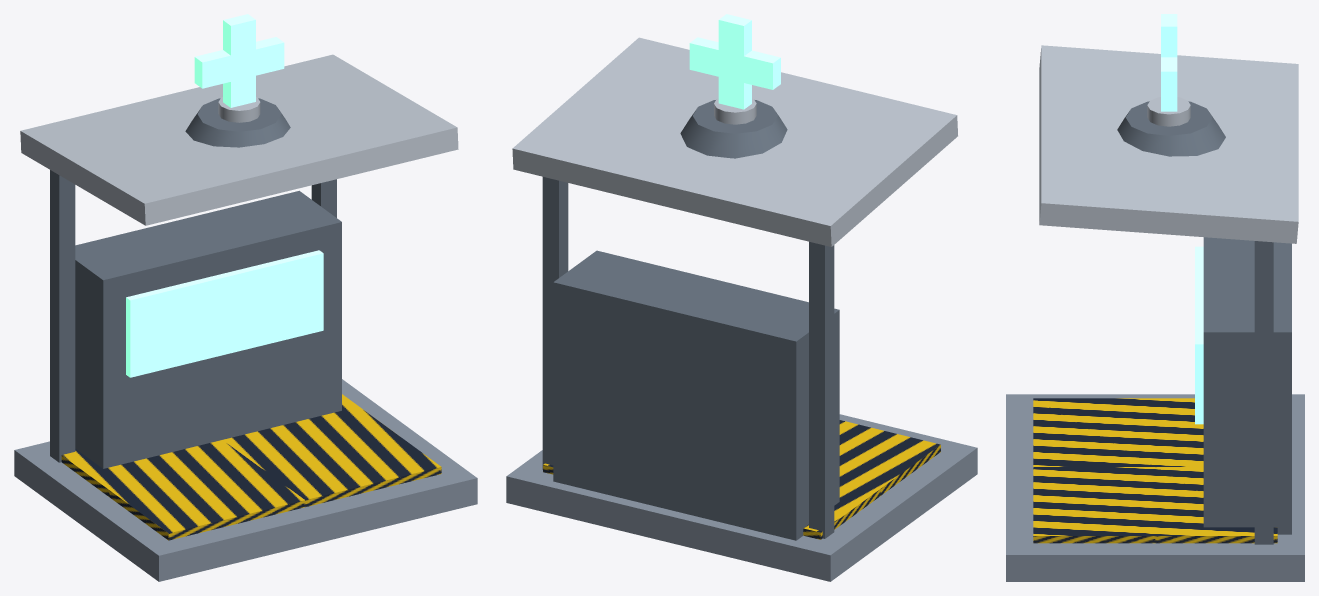
Rendered from repair_station_booth.glb.
3 views of the same model, side by side, from view 1: azimuth 30°, elevation 25°; view 2: azimuth 150°, elevation 25°; view 3: azimuth 270°, elevation 25° (orthographic). The views are drawn at different scales.
Parts seen in each view (by area): view 1: repair_station_booth, holo_pivot; view 2: repair_station_booth, holo_pivot; view 3: repair_station_booth, holo_pivot.
Part boxes in pixels (x1,y1,x2,y2): repair_station_booth: (14,54,477,581); holo_pivot: (194,14,284,107); repair_station_booth: (506,37,977,581); holo_pivot: (689,14,780,109); repair_station_booth: (1006,45,1304,581); holo_pivot: (1161,14,1177,111).
Bounding box in the file's own units: 2.8 × 3.91 × 2.2.
5 materials, 1 textured.
